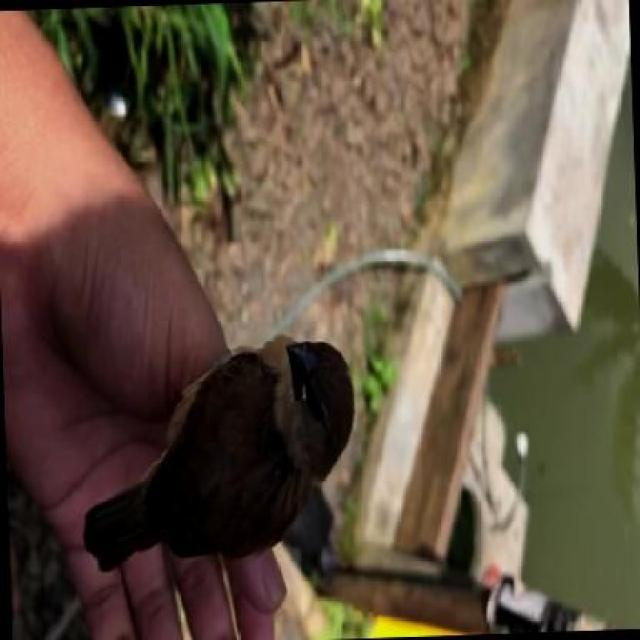Bird: (127, 309, 356, 619)
